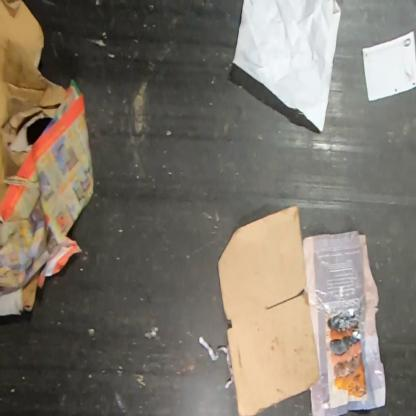cardboard: (217, 204, 322, 415), (0, 0, 66, 204)
